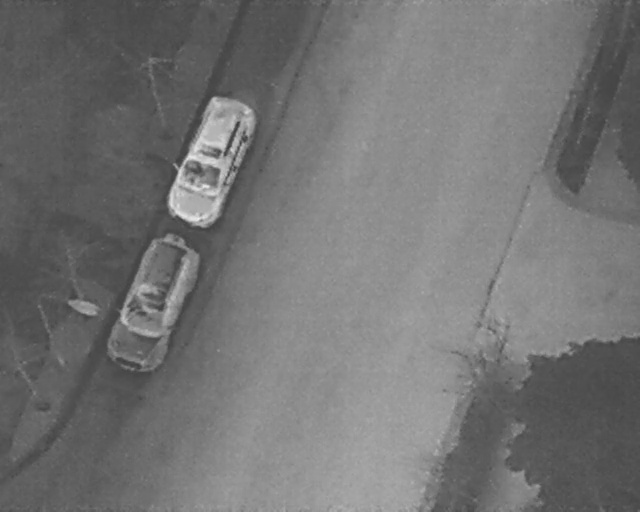Car: (99, 227, 207, 378), (158, 89, 260, 233)
